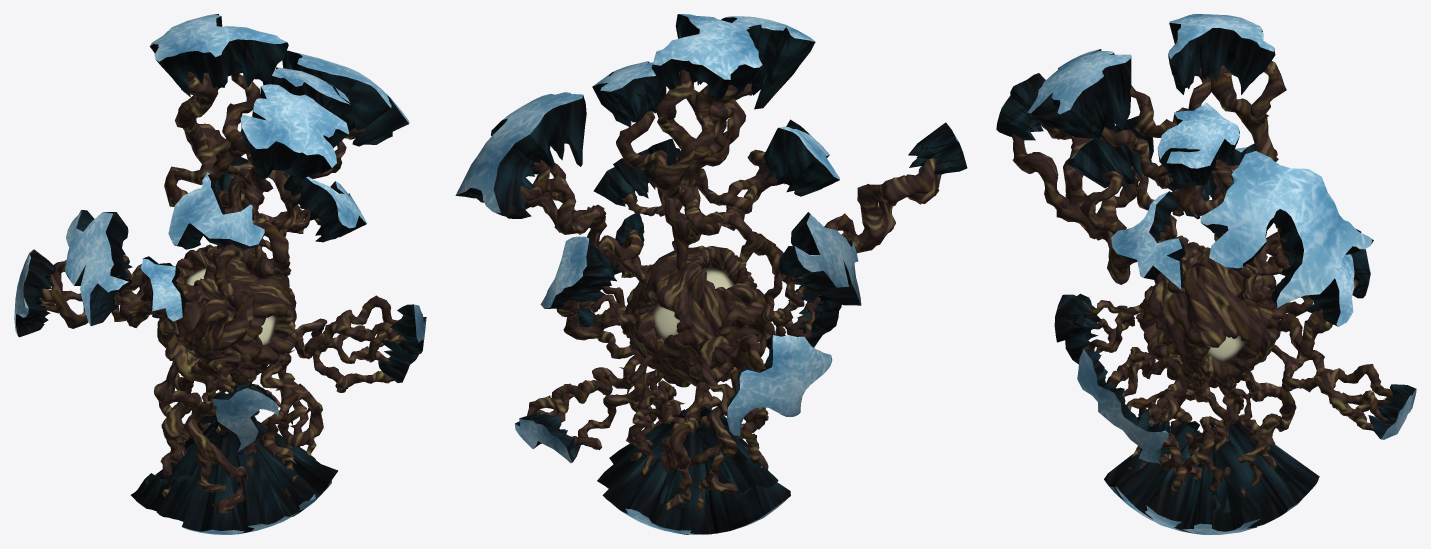
File: DarkBramble.glb
3 renders of one model, left to right at view 1: azimuth 30°, elevation 25°; view 2: azimuth 150°, elevation 25°; view 3: azimuth 270°, elevation 25°, orthographic.
Parts seen in each view (by area): view 1: LOD_DB_Proxy; view 2: LOD_DB_Proxy; view 3: LOD_DB_Proxy.
Part boxes in pixels (bbox=[...]): LOD_DB_Proxy: bbox=[14, 14, 426, 534]; LOD_DB_Proxy: bbox=[455, 14, 967, 534]; LOD_DB_Proxy: bbox=[996, 14, 1416, 534].
Bounding box in the file's own units: 1282 × 1635 × 1257.
Materials: 1 (1 with a texture image).
